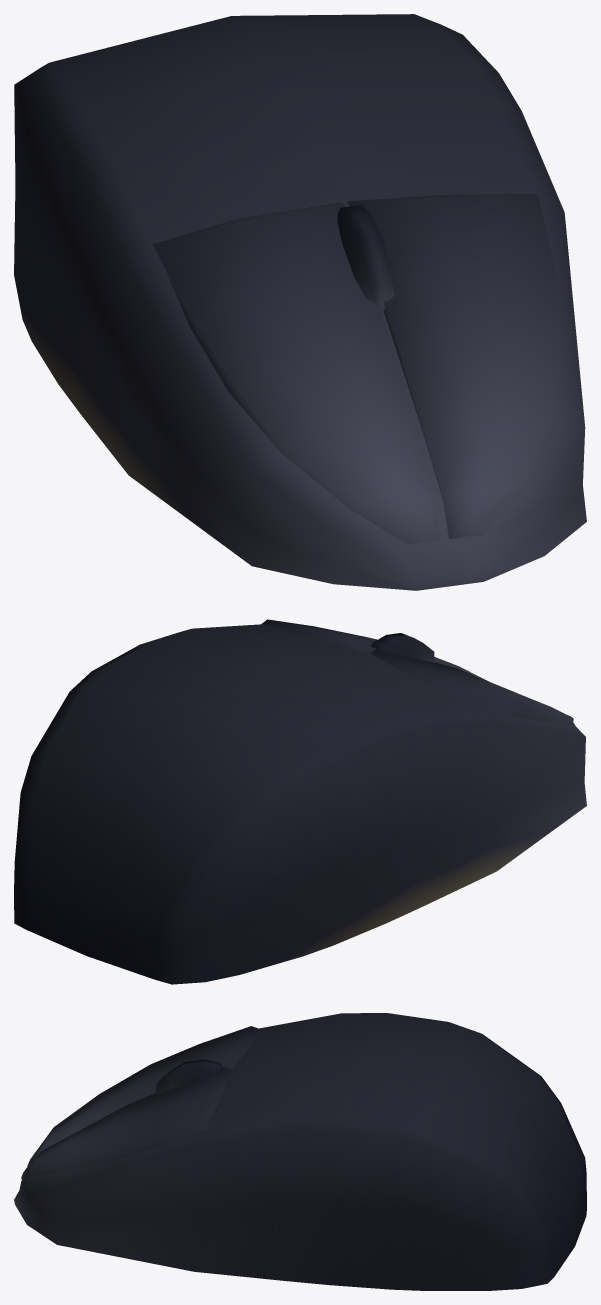
File: mesh_mouse_LOD1.fbx
3 views of the same model, one above another, from view 1: azimuth 30°, elevation 25°; view 2: azimuth 150°, elevation 25°; view 3: azimuth 270°, elevation 25° (orthographic). The views are drawn at different scales.
Visible parts, largest first — view 1: mouse.001; view 2: mouse.001; view 3: mouse.001.
Boxes of the visible parts, box(x1,y1,x2,y2) form: mouse.001: box(14, 14, 586, 590); mouse.001: box(14, 619, 586, 984); mouse.001: box(14, 1013, 586, 1290).
Size of the model in its own units: 13.63 by 8.43 by 24.52.
